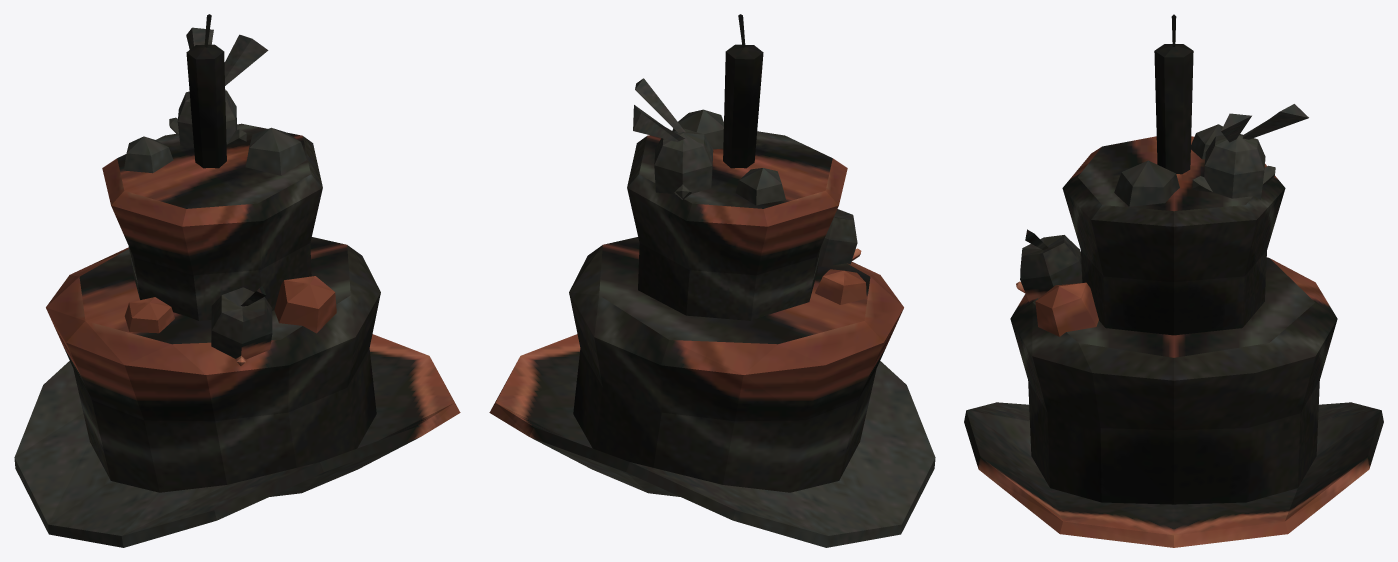
File: Chameleon_cakeHat.obj
The picture shows the model from 3 angles, left to right: view 1: azimuth 30°, elevation 25°; view 2: azimuth 150°, elevation 25°; view 3: azimuth 270°, elevation 25°; orthographic projection. The views are drawn at different scales.
Visible parts, largest first — view 1: Chameleon_cakeHat_tri; view 2: Chameleon_cakeHat_tri; view 3: Chameleon_cakeHat_tri.
Boxes of the visible parts, x1,y1,x2,y2 form: Chameleon_cakeHat_tri: (14,14,460,547); Chameleon_cakeHat_tri: (489,14,935,547); Chameleon_cakeHat_tri: (964,14,1383,547).
Size of the model in its own units: 0.4524 by 0.5381 by 0.4115.
1 material, 1 textured.
